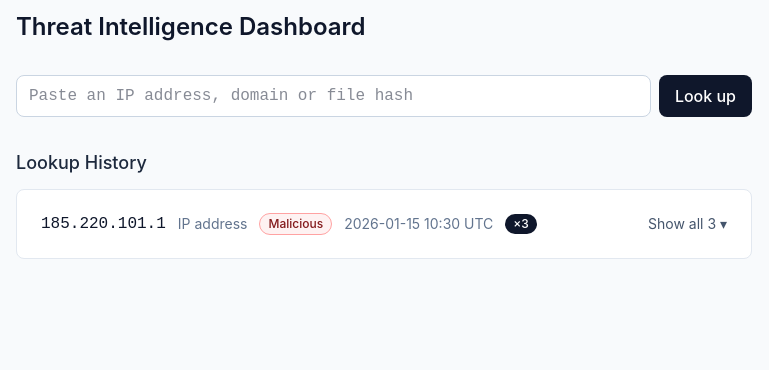
Test: a group expands to show each Lookup in it
Click the button with aria-label "Show all 3 Lookups of 185.220.101.1" at {"x": 688, "y": 224}, box [640,208,735,240]
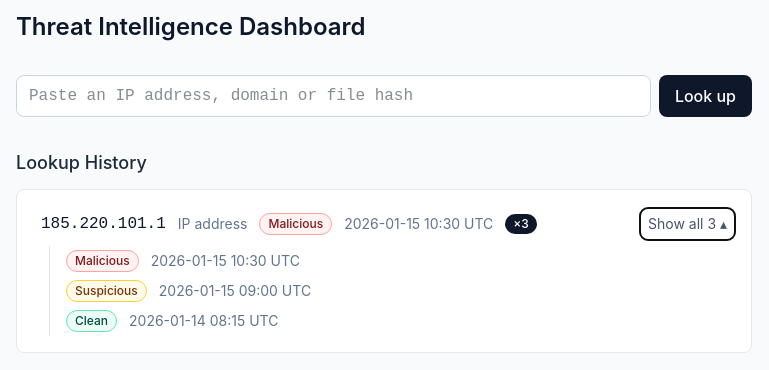
expect the button with aria-label "Show all 3 Lookups of 185.220.101.1" is expanded: met, box [640,208,735,240]
